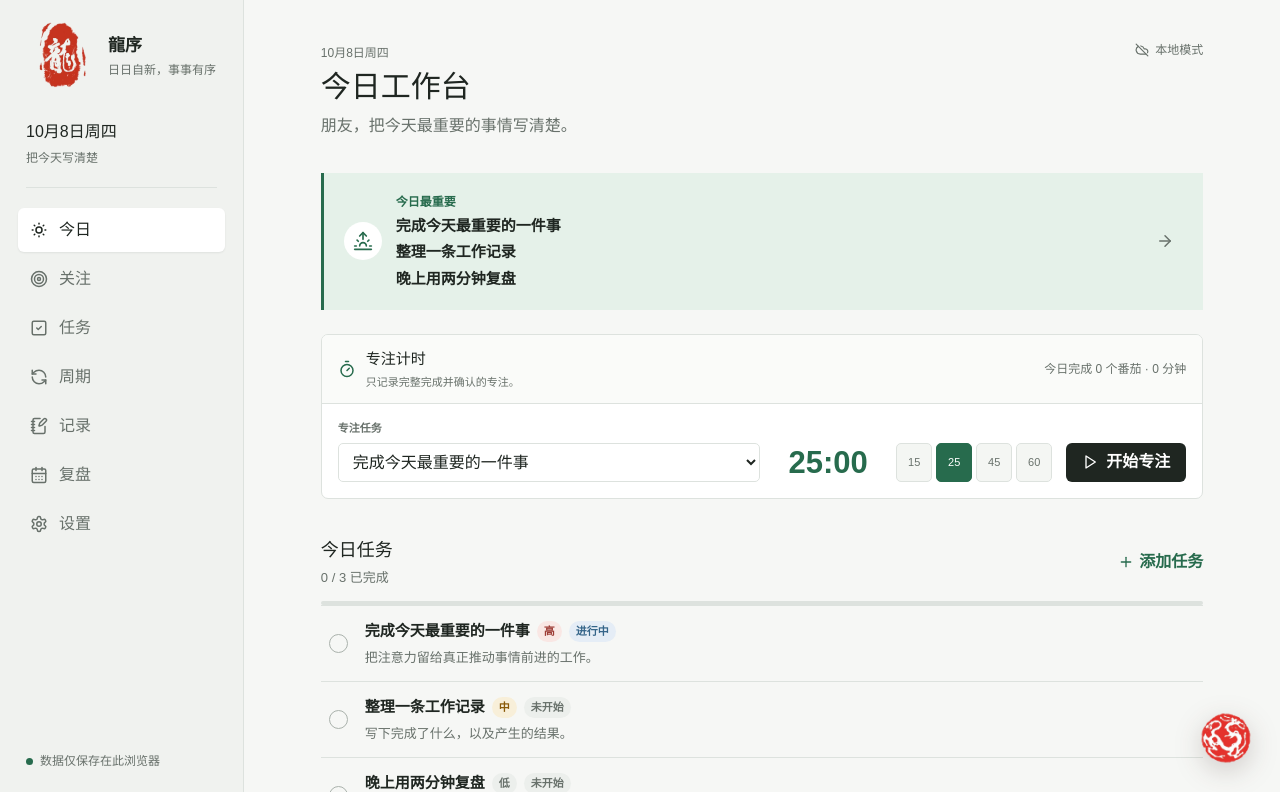
Test: workbench navigation › clears the active device timer when all workspace data is reset
This screenshot has width=1280, height=792.
Expected: the heading "今日工作台" is shown, [321,70,471,103]
Click the button "开始专注": point(1126, 462) [1066,443,1186,482]
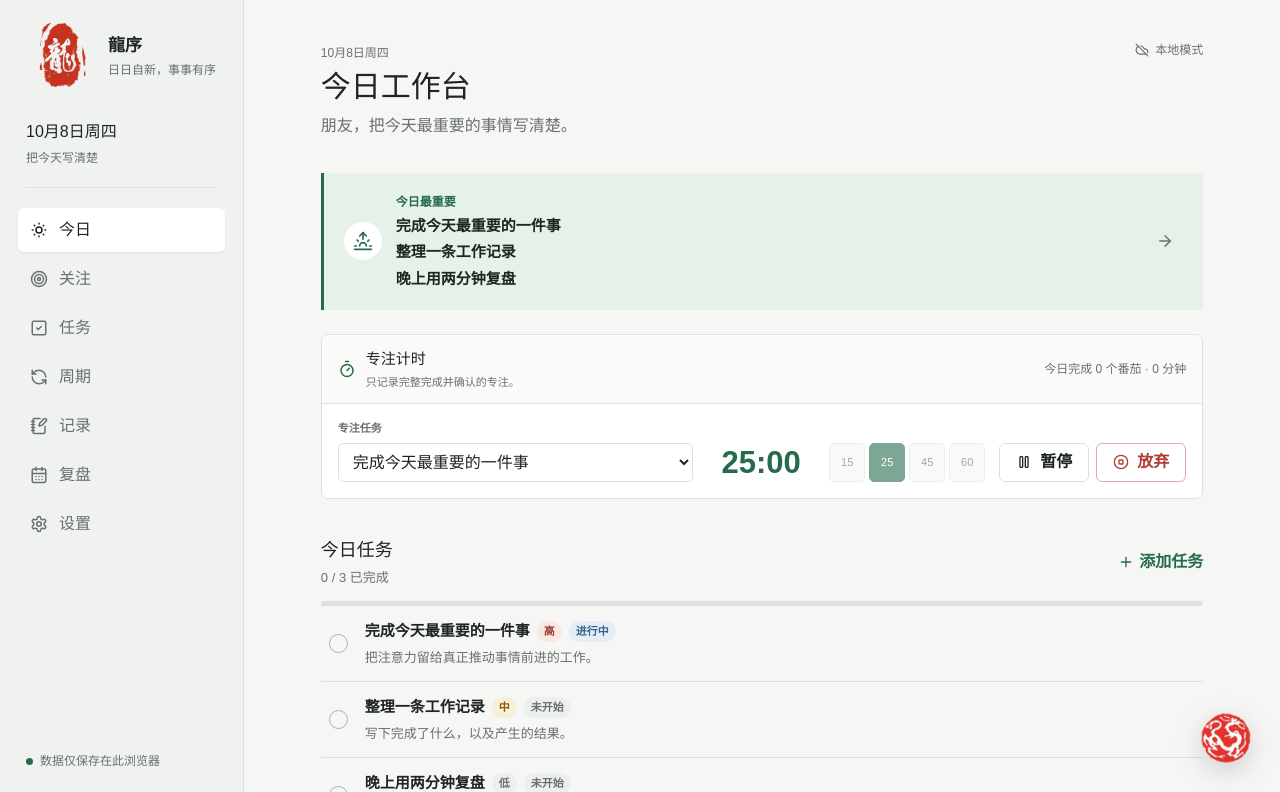
Click the button "设置": point(122, 524) [18,502,225,546]
(page scrolled)
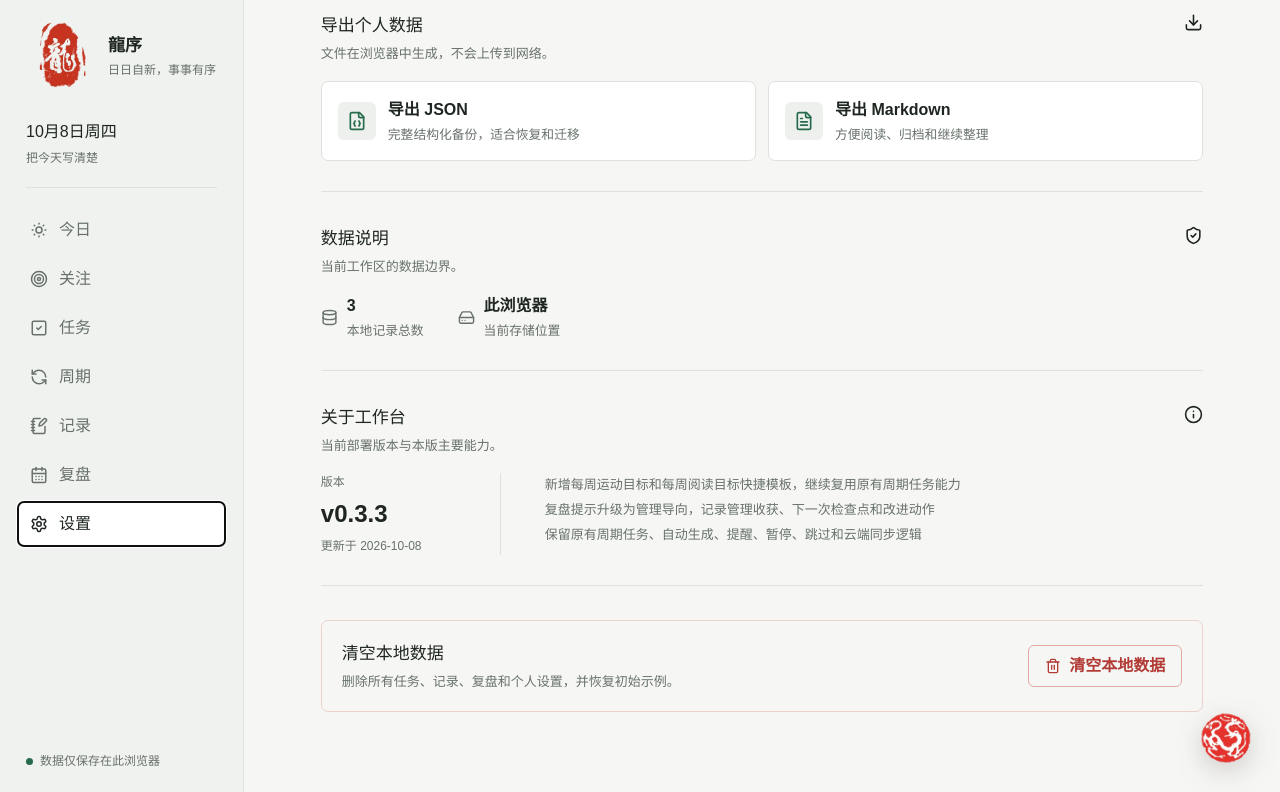
Click the button "清空本地数据": point(1105, 666) [1028,645,1182,687]
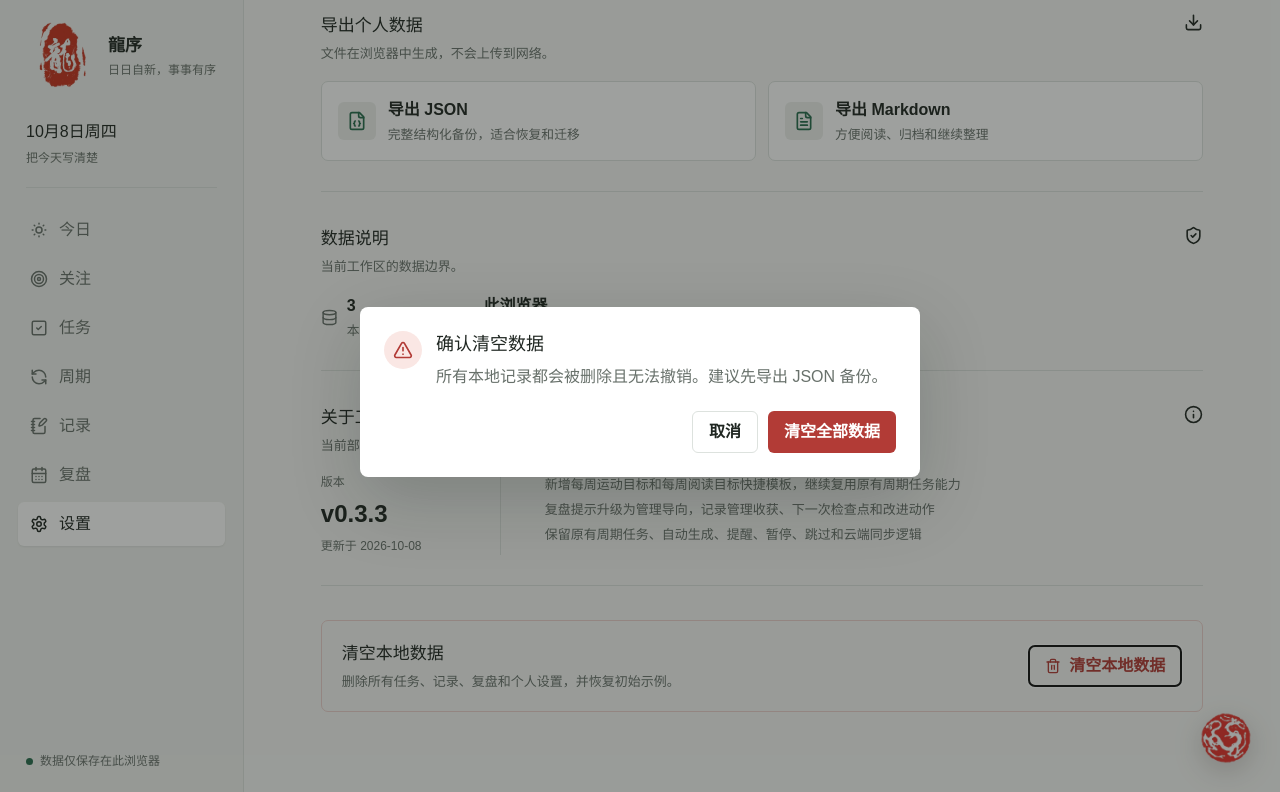
Click the button "清空全部数据": point(832, 432) [768,411,896,453]
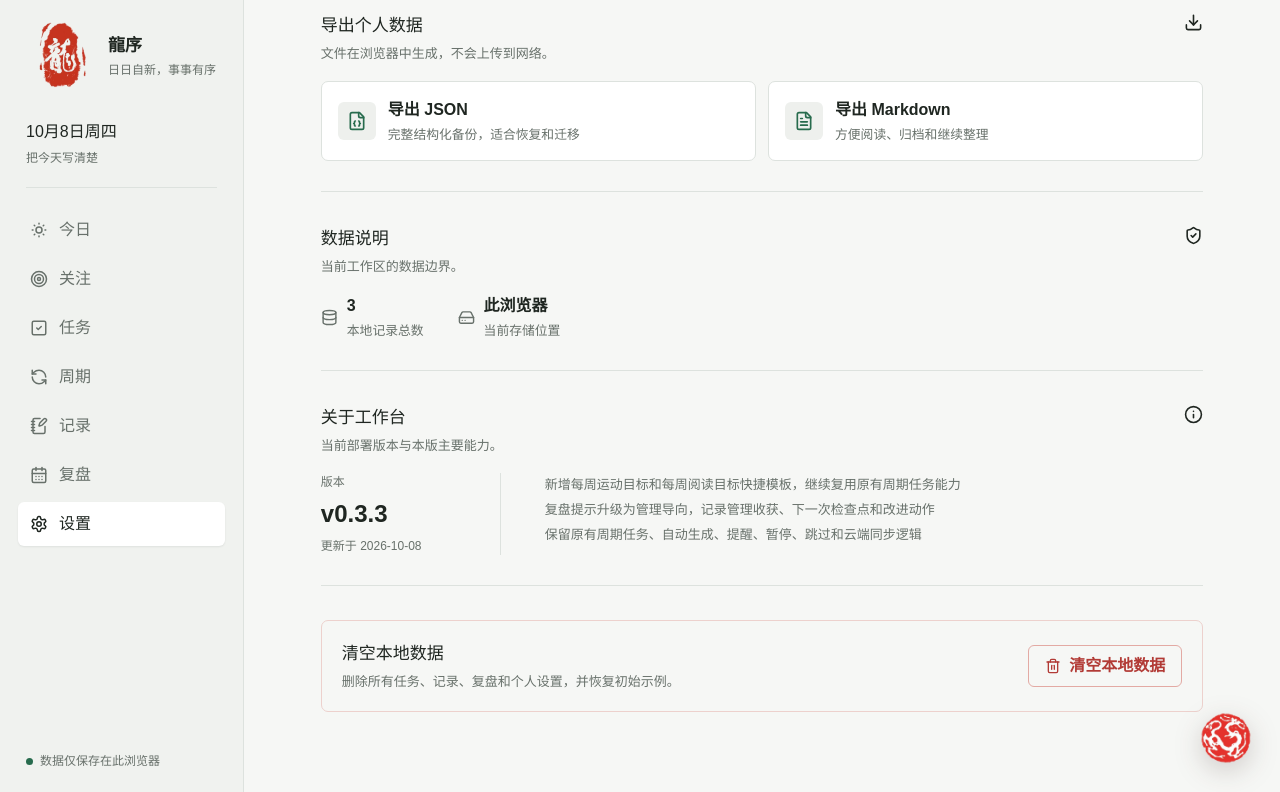
Click the button "今日": point(122, 230) [18,208,225,252]
(page scrolled)
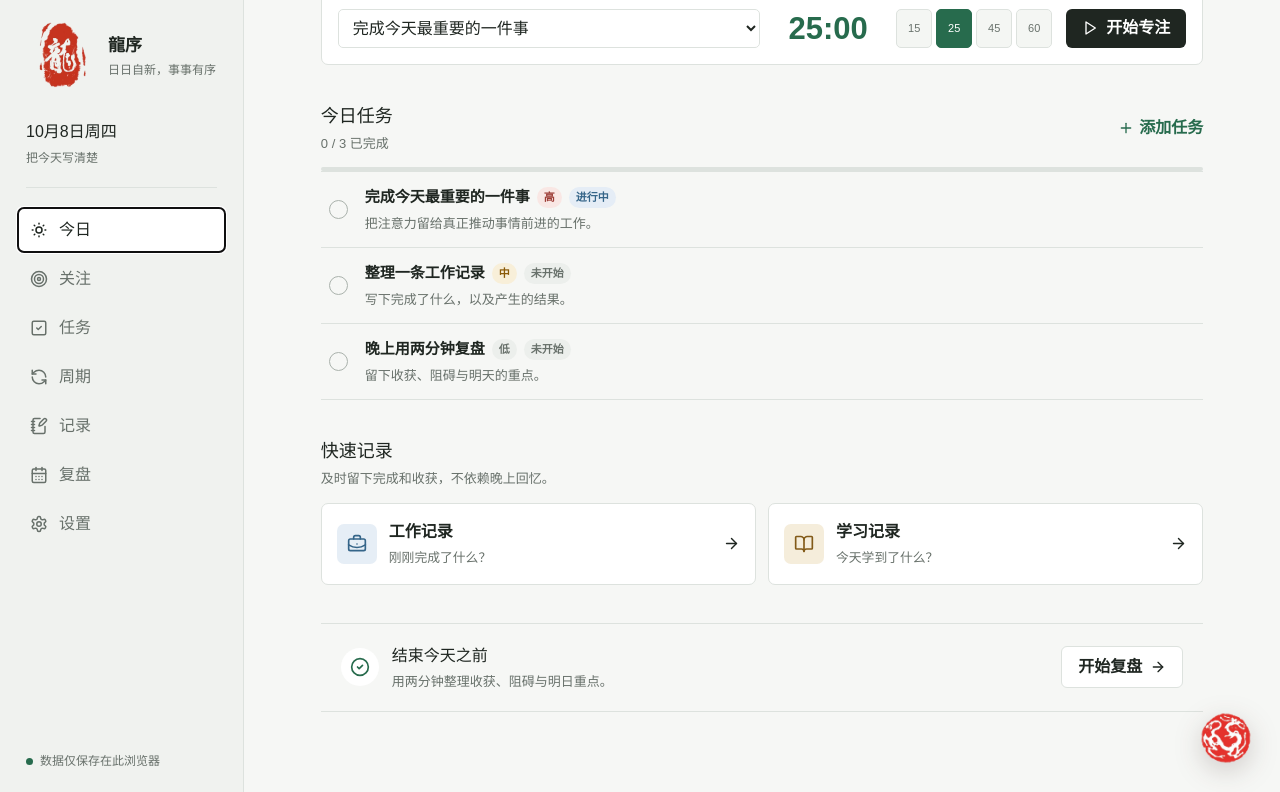
Result: the button "开始专注" is shown at [1066,9,1186,48]
Result: the list item "暂停" is gone
